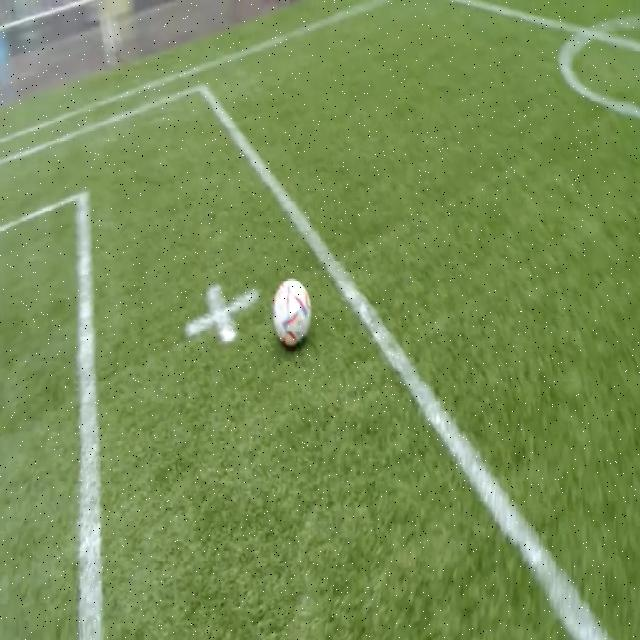ball: (272, 278, 310, 347)
